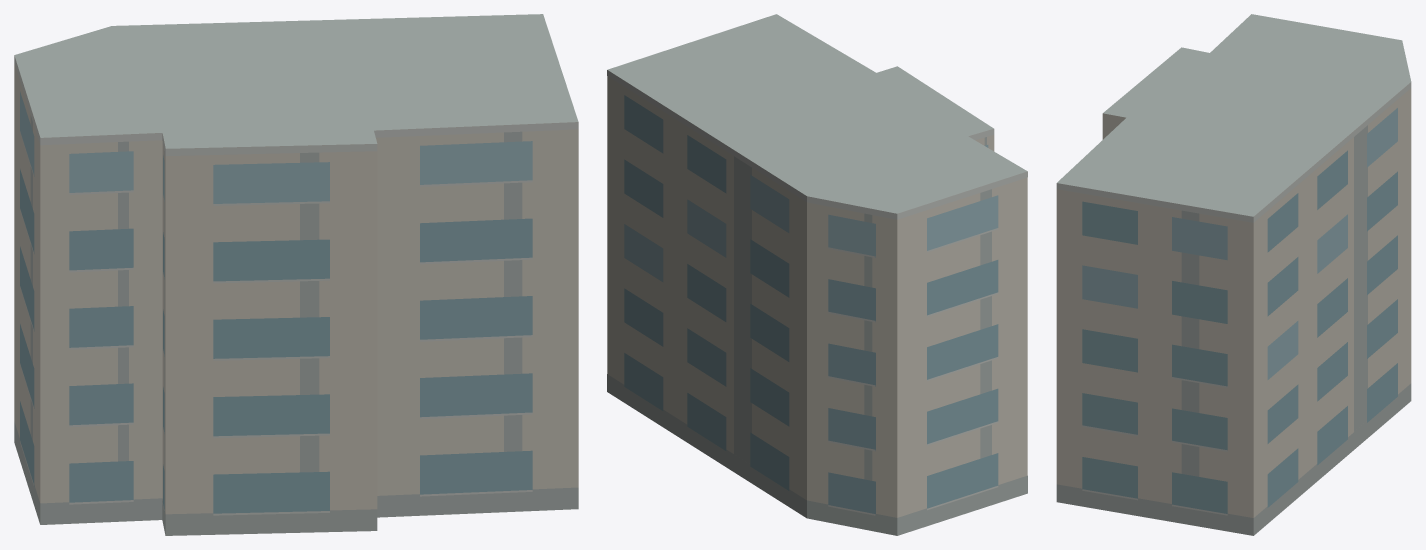
The model's file is survey-upis-32729567.glb.
3 renders of one model, left to right at view 1: azimuth 30°, elevation 25°; view 2: azimuth 150°, elevation 25°; view 3: azimuth 270°, elevation 25°, orthographic. The views are drawn at different scales.
Parts seen in each view (by area): view 1: survey-upis-32729567.tmp; view 2: survey-upis-32729567.tmp; view 3: survey-upis-32729567.tmp.
Part boxes in pixels (x1=…): survey-upis-32729567.tmp: x1=14, y1=14, x2=578, y2=535; survey-upis-32729567.tmp: x1=607, y1=14, x2=1027, y2=535; survey-upis-32729567.tmp: x1=1056, y1=14, x2=1411, y2=535.
Bounding box in the file's own units: 17.45 × 12.8 × 12.91.
